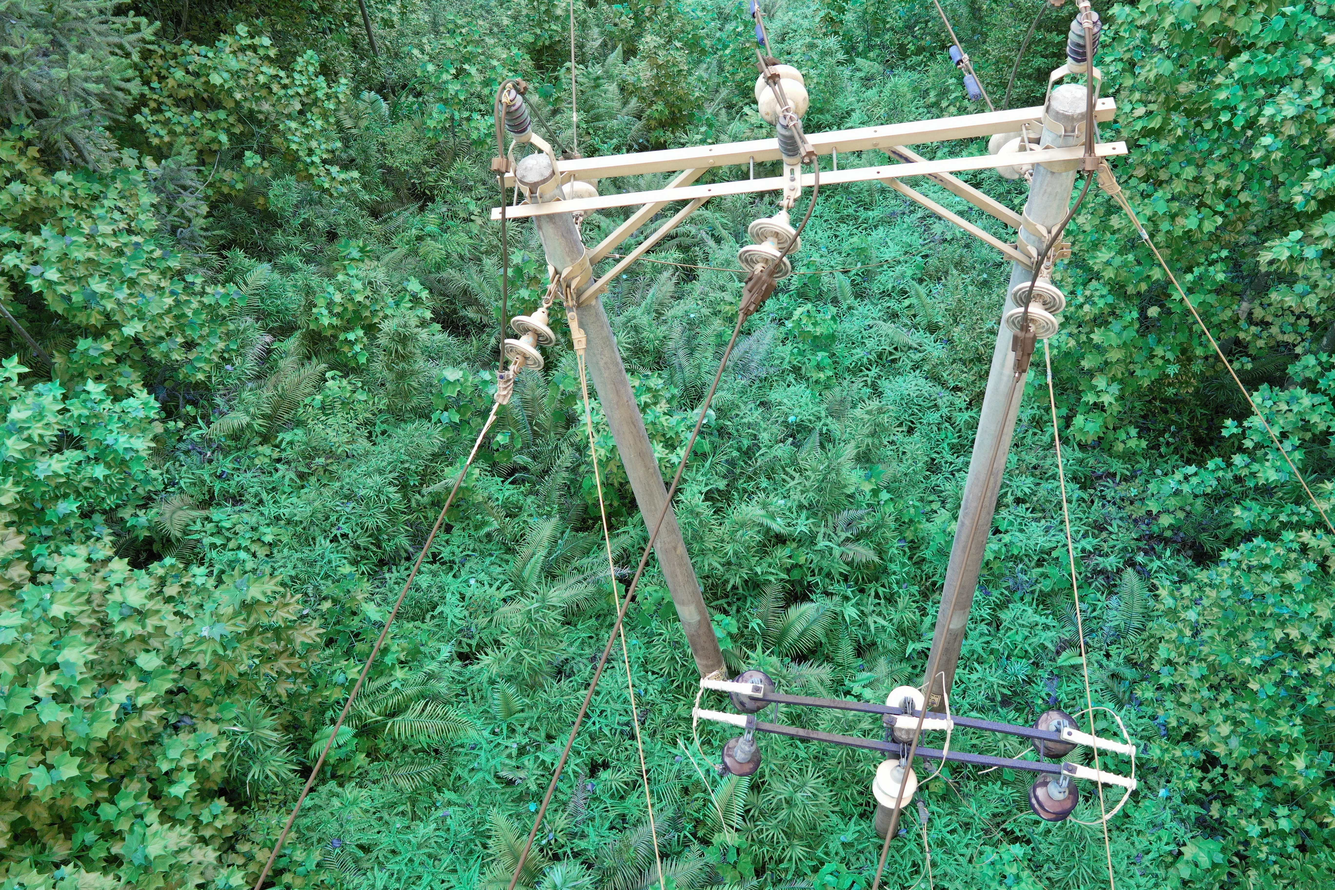severe_soiling_no_discharge_whole: (737, 211, 805, 282), (496, 303, 560, 374), (1001, 273, 1067, 340), (752, 63, 810, 126), (1063, 11, 1103, 76), (495, 89, 534, 145), (774, 112, 806, 166), (561, 179, 599, 221)
